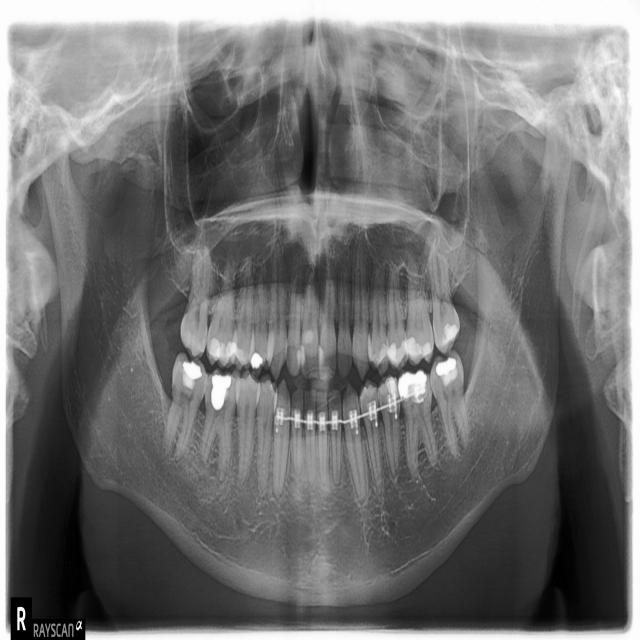mandibula: (40, 102, 572, 608)
